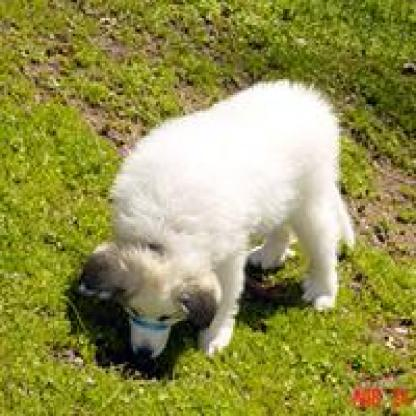Great_Pyrenees: (85, 70, 356, 355)
